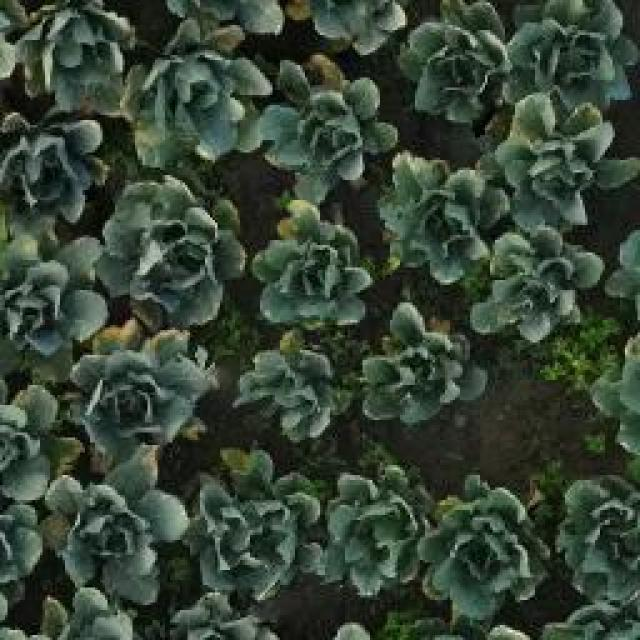cabbage: (45, 462, 173, 606), (374, 145, 497, 285), (186, 460, 308, 601), (132, 39, 269, 164), (499, 95, 619, 234), (110, 188, 237, 319), (475, 227, 608, 348), (422, 483, 542, 617), (77, 332, 205, 454), (507, 1, 640, 112), (0, 0, 132, 109), (253, 205, 366, 325), (314, 466, 422, 590), (362, 310, 479, 424), (0, 108, 105, 232), (270, 67, 380, 185), (401, 1, 507, 121), (0, 238, 105, 351), (232, 340, 344, 436), (555, 476, 640, 589), (0, 381, 75, 497)
